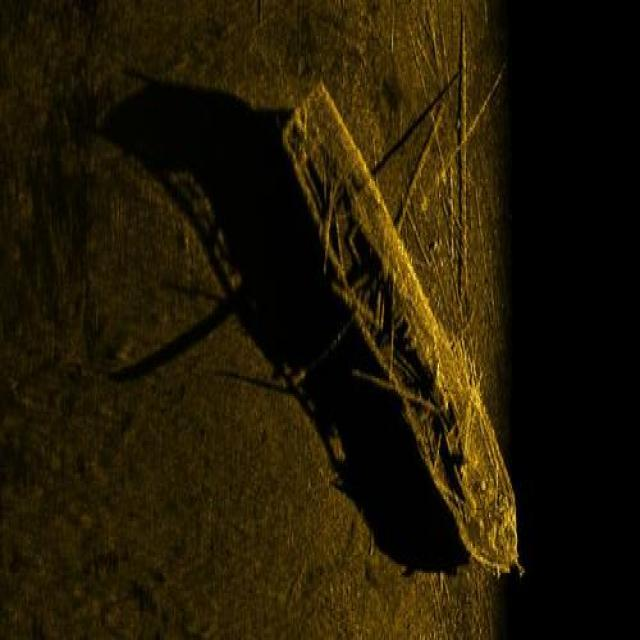shipwreck: (278, 69, 532, 584)
